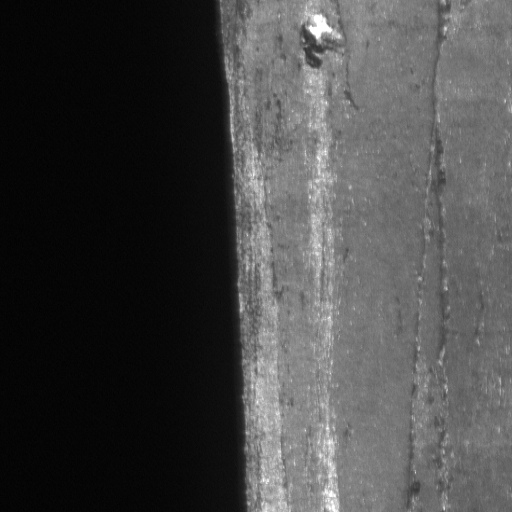qiaopi: (298, 10, 344, 69)
